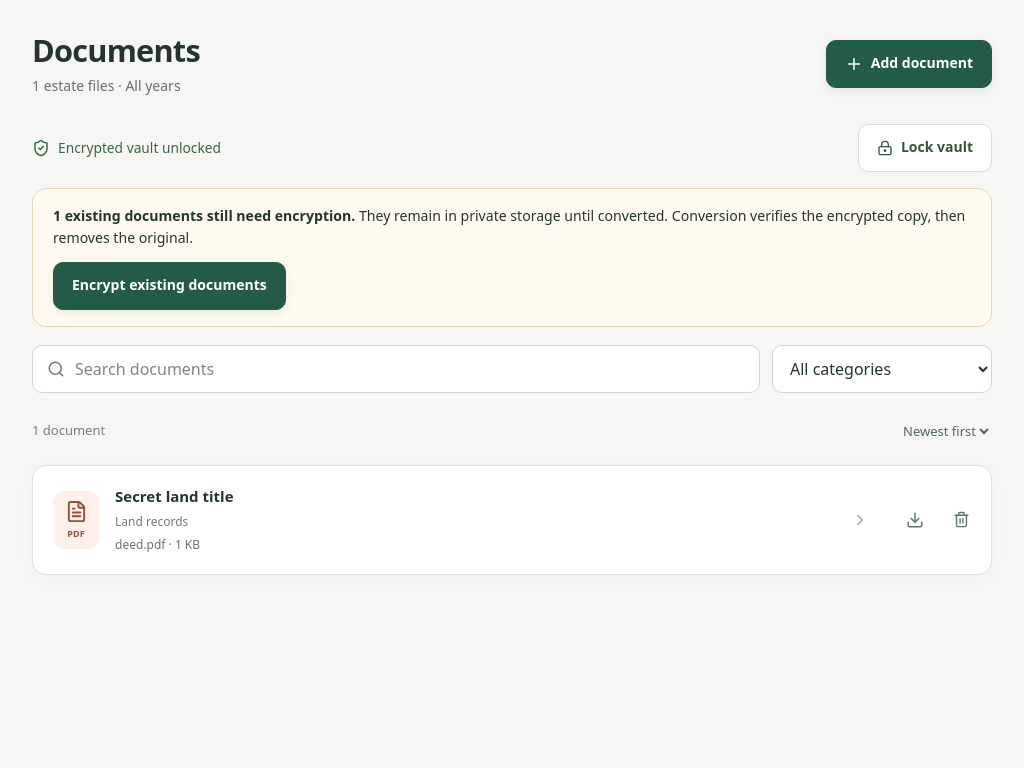
retains originals after conversion failure and retries durable cleanup on another visit
Click the button "Encrypt existing documents".
click(169, 286)  # box [53, 262, 286, 310]
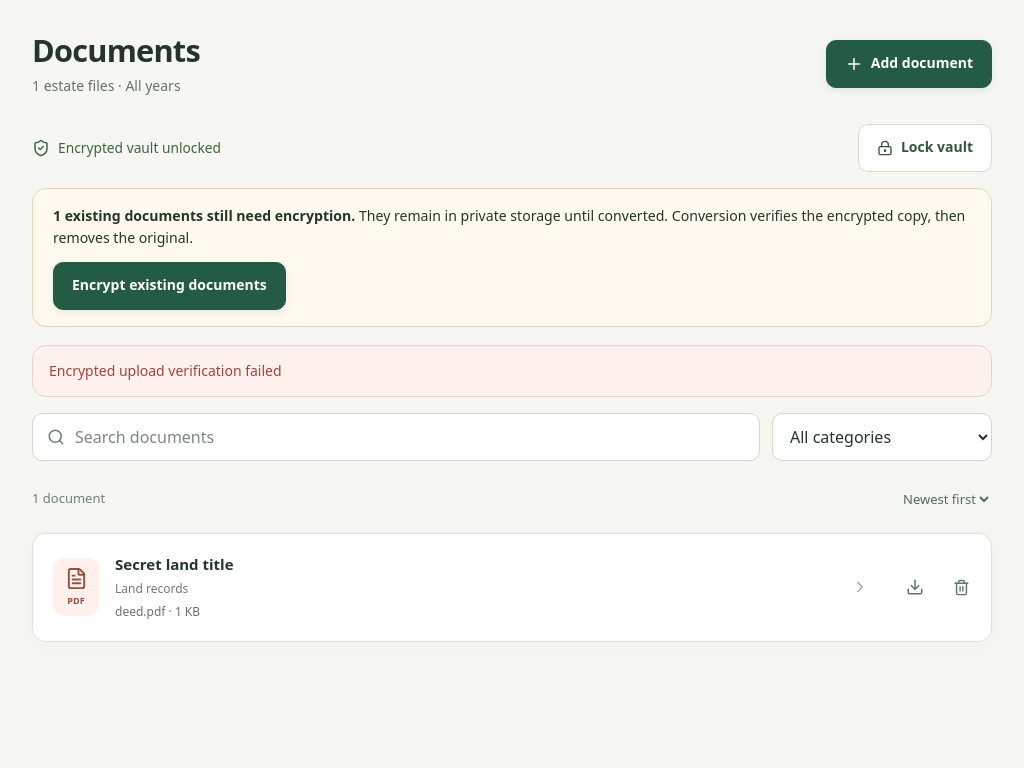
Now the message shows "verification failed", box [49, 361, 282, 380]
